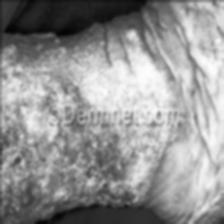Non-Cancerous Skin Condition: (44, 33, 176, 105), (47, 126, 168, 195), (0, 42, 42, 216), (190, 25, 224, 150), (195, 167, 224, 201)
